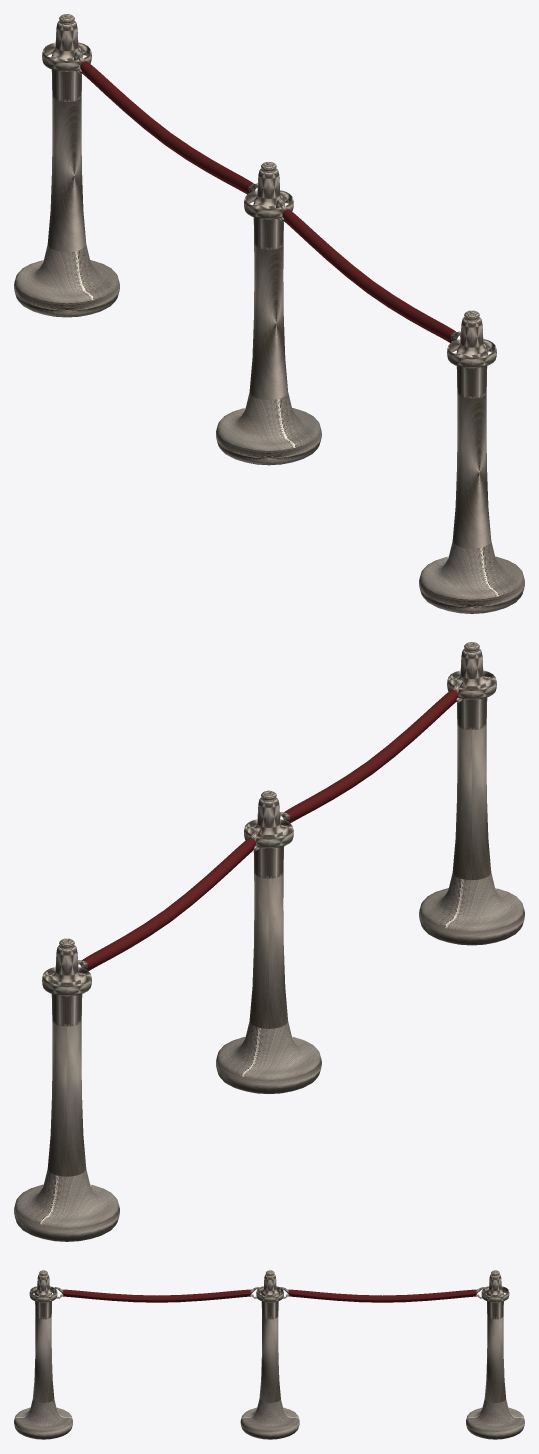
File: Polefench.fbx
3 views of the same model, one above another, from view 1: azimuth 30°, elevation 25°; view 2: azimuth 150°, elevation 25°; view 3: azimuth 270°, elevation 25° (orthographic). The views are drawn at different scales.
Visible parts, largest first — view 1: polegate, polegate1, polegate2, pCylinder3, pCylinder4; view 2: polegate2, polegate, polegate1, pCylinder3, pCylinder4; view 3: polegate2, polegate, polegate1, pCylinder4, pCylinder3.
Boxes of the visible parts, x1=… form: polegate: x1=419, y1=310, x2=524, y2=613; polegate1: x1=216, y1=162, x2=321, y2=465; polegate2: x1=14, y1=14, x2=119, y2=317; pCylinder3: x1=276, y1=199, x2=460, y2=350; pCylinder4: x1=74, y1=51, x2=257, y2=194; polegate2: x1=14, y1=938, x2=119, y2=1241; polegate: x1=419, y1=642, x2=524, y2=945; polegate1: x1=216, y1=790, x2=321, y2=1093; pCylinder3: x1=280, y1=680, x2=464, y2=823; pCylinder4: x1=78, y1=828, x2=262, y2=970; polegate2: x1=466, y1=1270, x2=524, y2=1439; polegate: x1=14, y1=1270, x2=72, y2=1439; polegate1: x1=240, y1=1270, x2=299, y2=1439; pCylinder4: x1=278, y1=1287, x2=486, y2=1302; pCylinder3: x1=53, y1=1287, x2=260, y2=1302.
Size of the model in its own units: 2.87 by 8.38 by 24.62.
